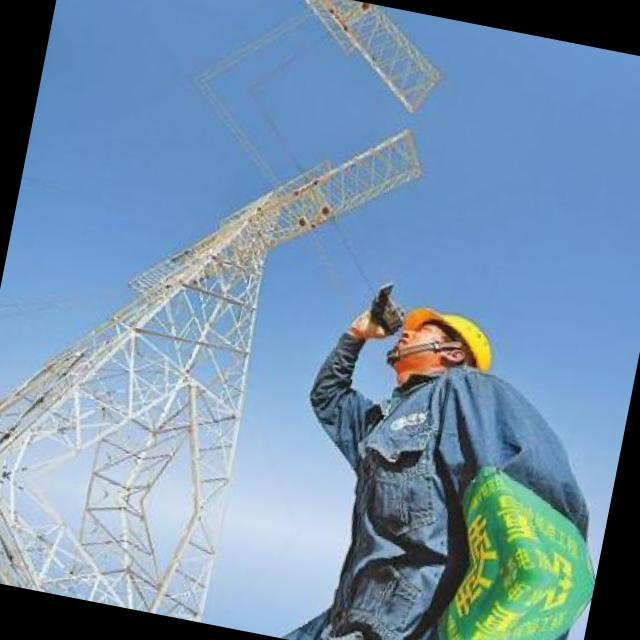helmet: (384, 297, 506, 392)
